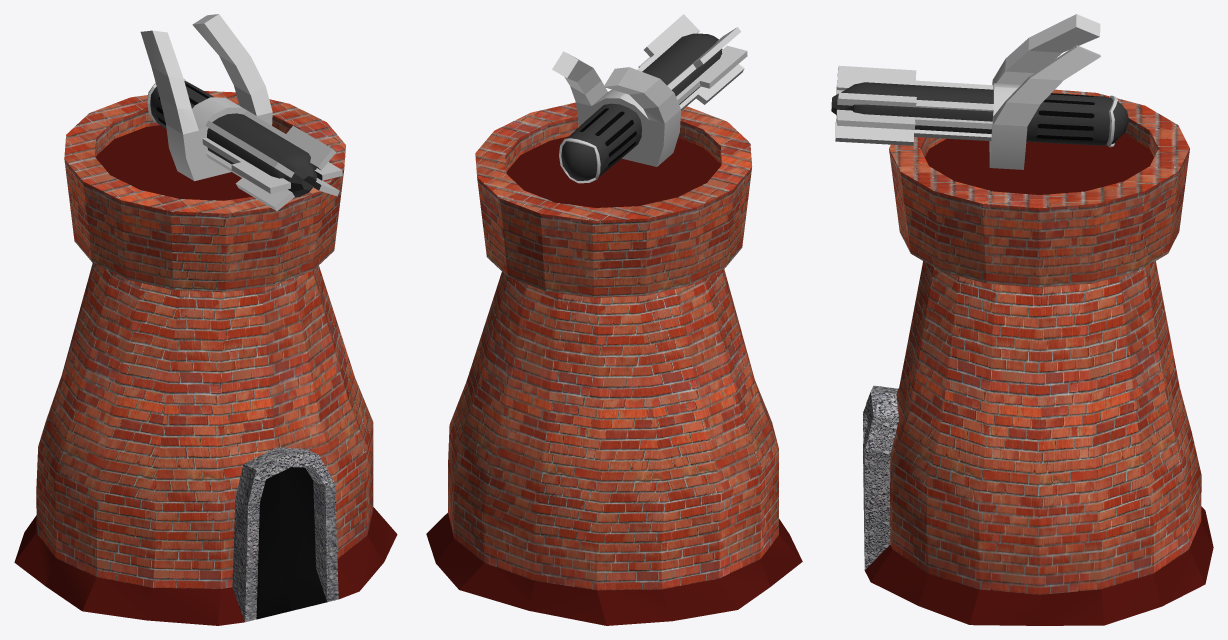
The model's file is 基礎電漿砲.FBX.
The picture shows the model from 3 angles, left to right: view 1: azimuth 30°, elevation 25°; view 2: azimuth 150°, elevation 25°; view 3: azimuth 270°, elevation 25°; orthographic projection. The views are drawn at different scales.
Parts seen in each view (by area): view 1: 基礎塔, Box001; view 2: 基礎塔, Box001; view 3: 基礎塔, Box001.
Part boxes in pixels (x1,y1,x2,y2): 基礎塔: (14, 91, 397, 625); Box001: (140, 14, 342, 211); 基礎塔: (426, 102, 802, 625); Box001: (552, 14, 747, 183); 基礎塔: (863, 89, 1213, 625); Box001: (831, 14, 1129, 169).
Bounding box in the file's own units: 34.98 × 53.63 × 35.97.
7 materials, 2 textured.
